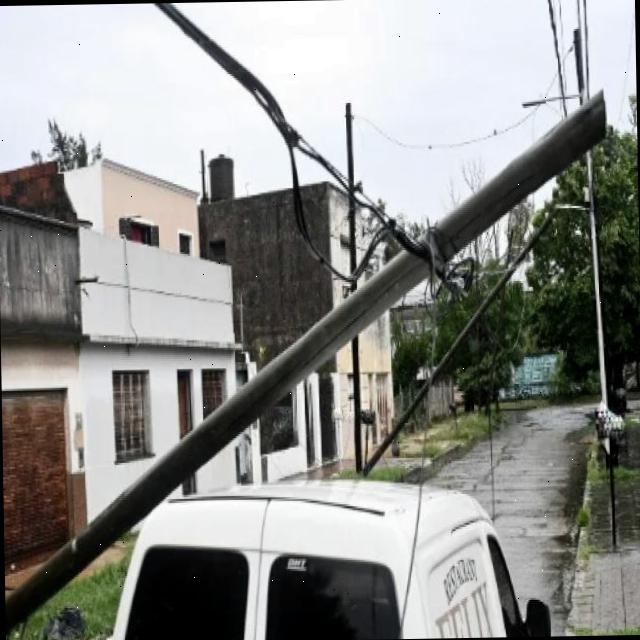Broken Pole: (6, 80, 608, 640), (363, 198, 587, 472)
